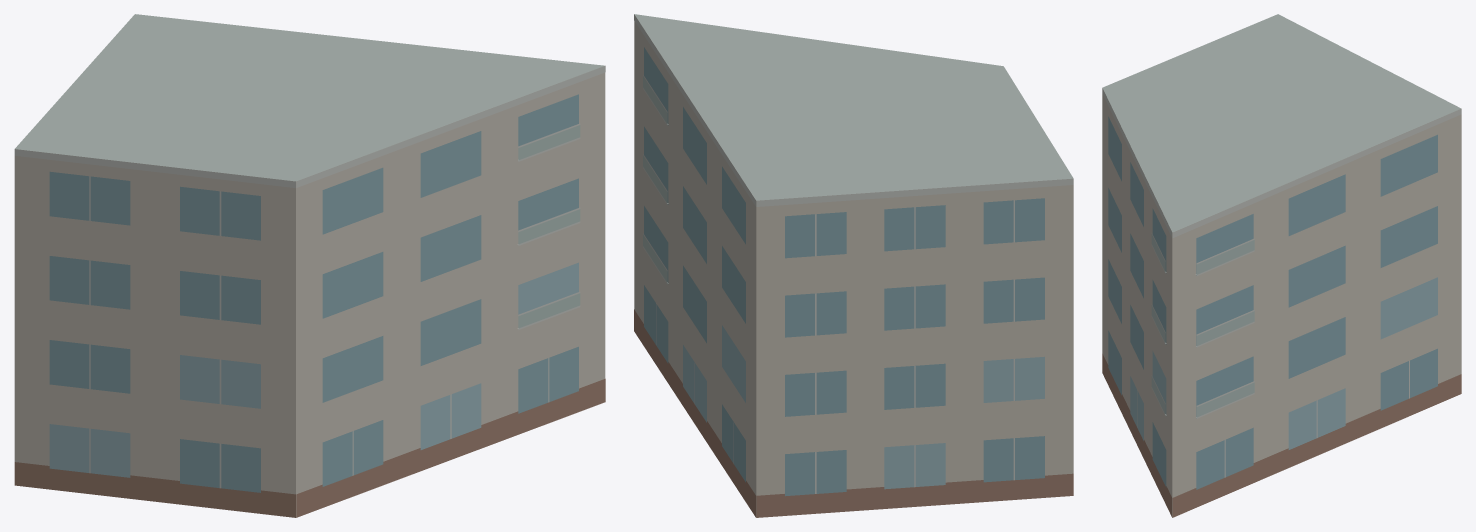
File: residential-505b59e9-9183-464c-aac0-846e06d26429.glb
3 views of the same model, side by side, from view 1: azimuth 30°, elevation 25°; view 2: azimuth 150°, elevation 25°; view 3: azimuth 270°, elevation 25° (orthographic). The views are drawn at different scales.
Visible parts, largest first — view 1: residential-505b59e9-9183-464c-aac0-846e06d26429.tmp; view 2: residential-505b59e9-9183-464c-aac0-846e06d26429.tmp; view 3: residential-505b59e9-9183-464c-aac0-846e06d26429.tmp.
Part boxes in pixels (x1=…): residential-505b59e9-9183-464c-aac0-846e06d26429.tmp: x1=14, y1=14, x2=605, y2=517; residential-505b59e9-9183-464c-aac0-846e06d26429.tmp: x1=634, y1=14, x2=1073, y2=517; residential-505b59e9-9183-464c-aac0-846e06d26429.tmp: x1=1102, y1=14, x2=1461, y2=517.
Size of the model in its own units: 20.07 by 12.2 by 13.94.
